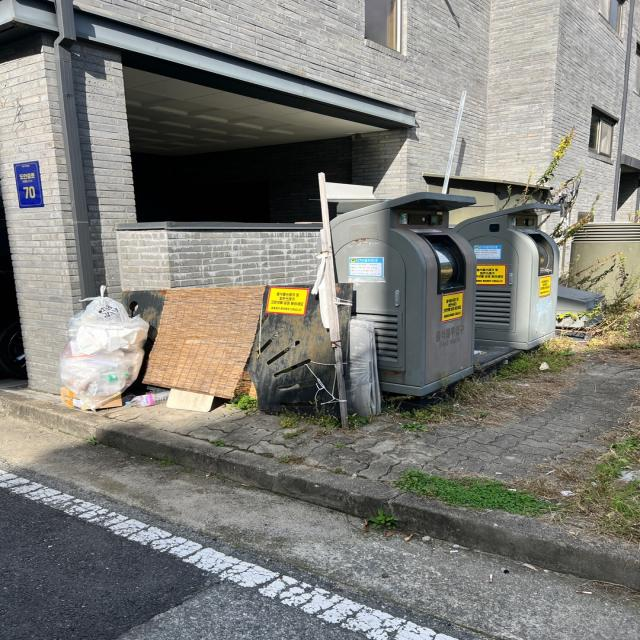CleanNet: (303, 176, 483, 412), (471, 195, 578, 364)
General Waste: (57, 284, 158, 418)
